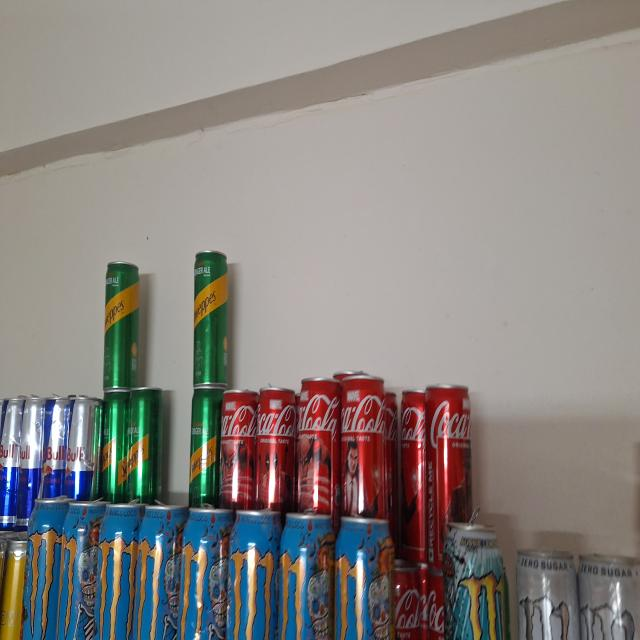Coca Cola: (388, 392, 400, 532), (421, 570, 445, 636), (396, 572, 418, 638)
Coca Cola - Marvel: (343, 378, 384, 526), (294, 380, 338, 514), (431, 394, 474, 522), (398, 393, 426, 556), (258, 386, 296, 506), (222, 388, 255, 514)
Monster Aussie Lemonade: (444, 524, 508, 640)
Monster Mango Loco: (58, 501, 110, 640), (230, 509, 284, 640), (281, 514, 336, 640), (185, 514, 235, 640), (28, 500, 73, 640), (337, 517, 387, 640), (99, 500, 141, 640), (141, 504, 181, 640)
Schweppes: (191, 249, 229, 383), (103, 257, 140, 391), (128, 383, 165, 503), (186, 389, 219, 496), (102, 399, 126, 501)
White Monster: (519, 550, 580, 640), (575, 558, 637, 640)
